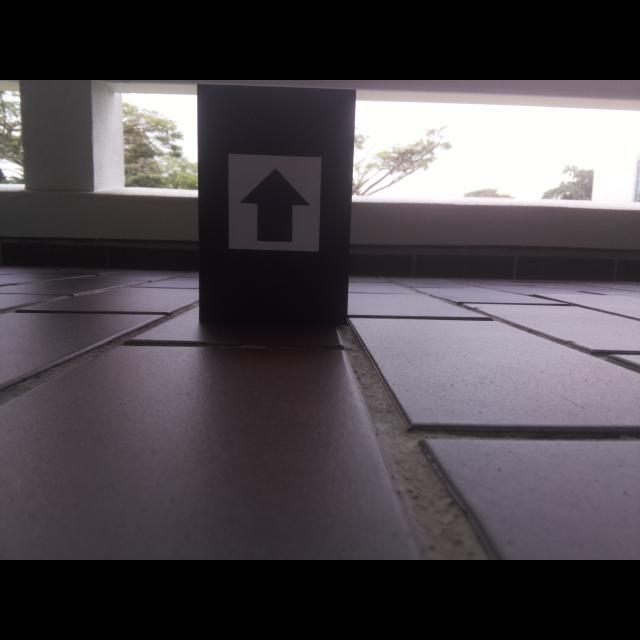UP: (237, 167, 312, 244)
